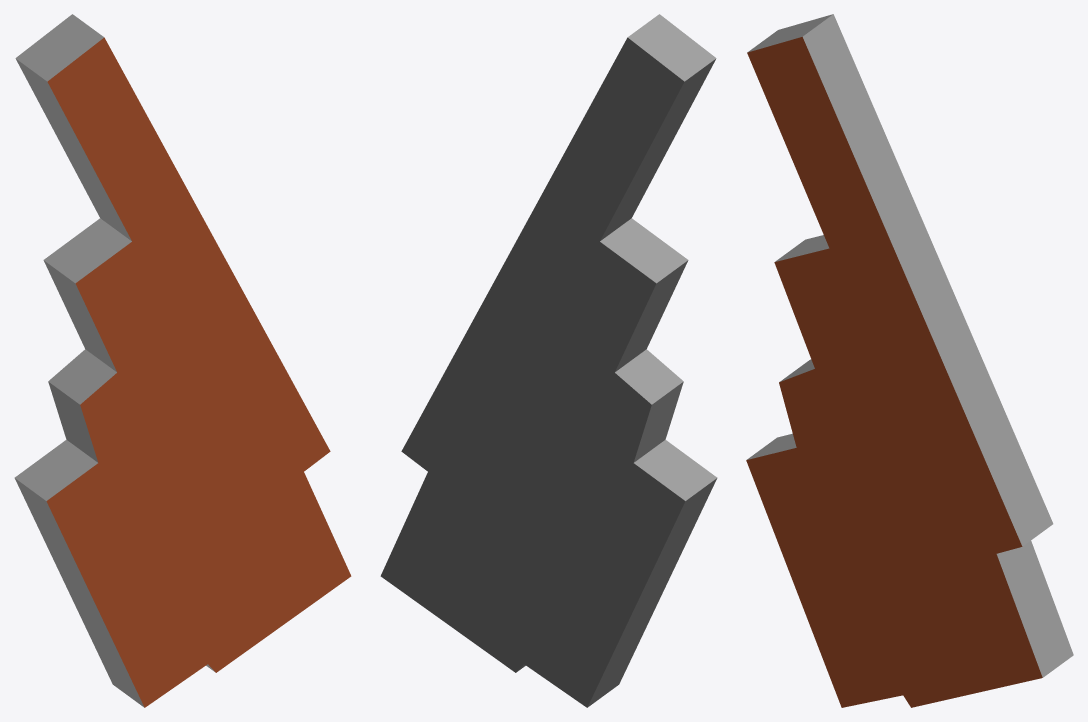
File: construction_2693_assumed_A_Casa_h6m.obj
3 renders of one model, left to right at view 1: azimuth 30°, elevation 25°; view 2: azimuth 150°, elevation 25°; view 3: azimuth 330°, elevation 25°, orthographic. The views are drawn at different scales.
Parts seen in each view (by area): view 1: construction_2693_assumed_A_Casa; view 2: construction_2693_assumed_A_Casa; view 3: construction_2693_assumed_A_Casa.
Part boxes in pixels (bbox=[...]): construction_2693_assumed_A_Casa: bbox=[14, 14, 351, 707]; construction_2693_assumed_A_Casa: bbox=[380, 14, 717, 707]; construction_2693_assumed_A_Casa: bbox=[746, 14, 1073, 707].
Bounding box in the file's own units: 33.06 × 70.47 × 6.
